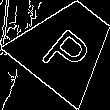P_NE: (36, 15, 97, 77)
